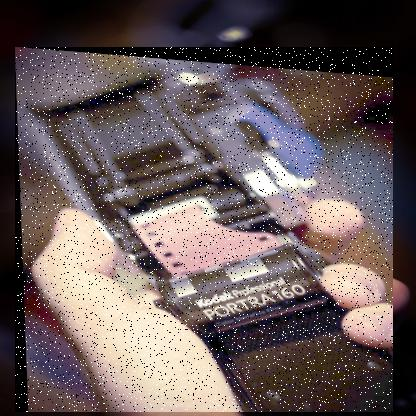Camera: (16, 48, 395, 414)
